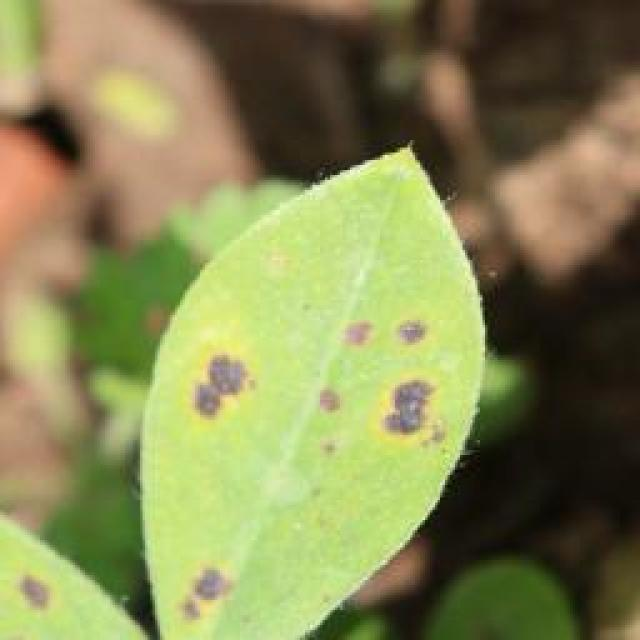Yellowish: (115, 194, 507, 636), (1, 506, 116, 639)
